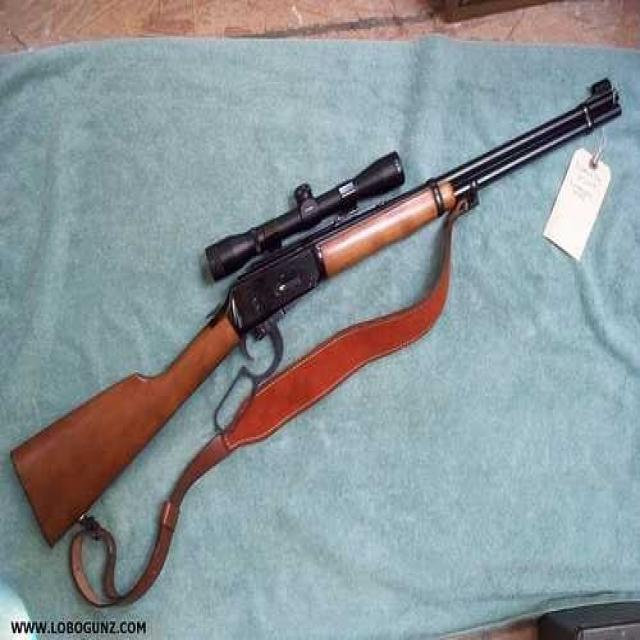weapon: (11, 64, 634, 578)
